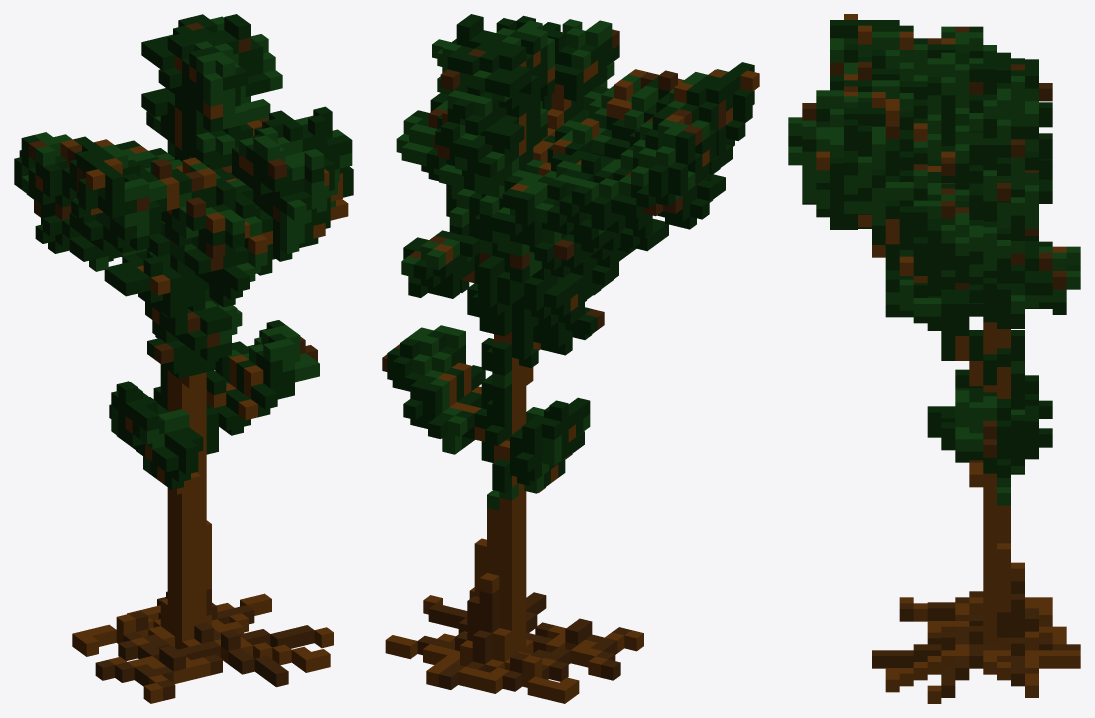
File: Tree_Little.obj
The picture shows the model from 3 angles, left to right: view 1: azimuth 30°, elevation 25°; view 2: azimuth 150°, elevation 25°; view 3: azimuth 270°, elevation 25°; orthographic projection. The views are drawn at different scales.
Size of the model in its own units: 2.4 by 4.8 by 2.1.
Materials: 1 (1 with a texture image).
